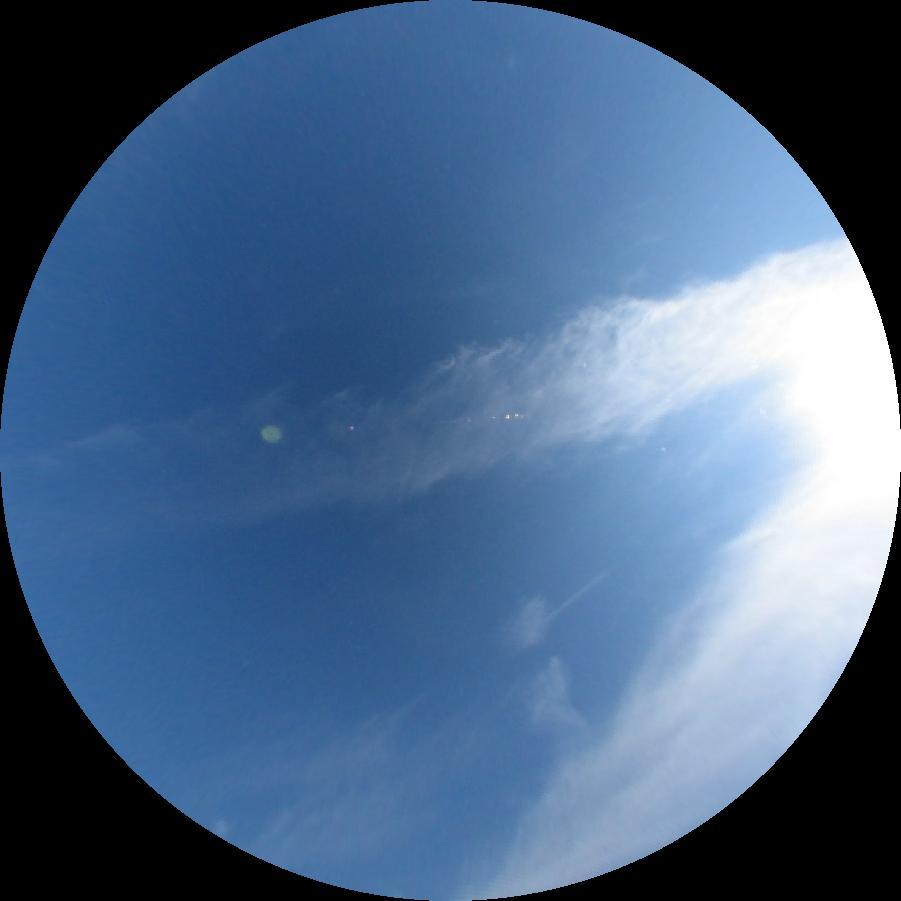contrail veryold: (0, 231, 880, 588), (502, 593, 591, 758)
unknow: (546, 569, 609, 620)
